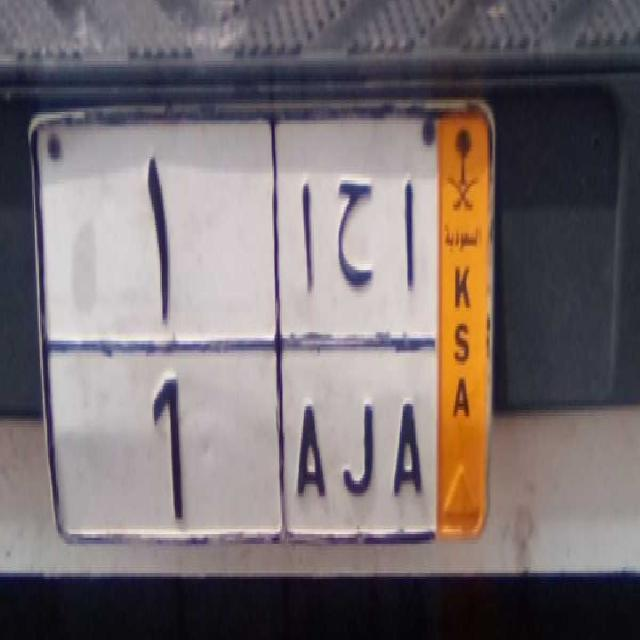license_plate: (45, 336, 439, 544)
